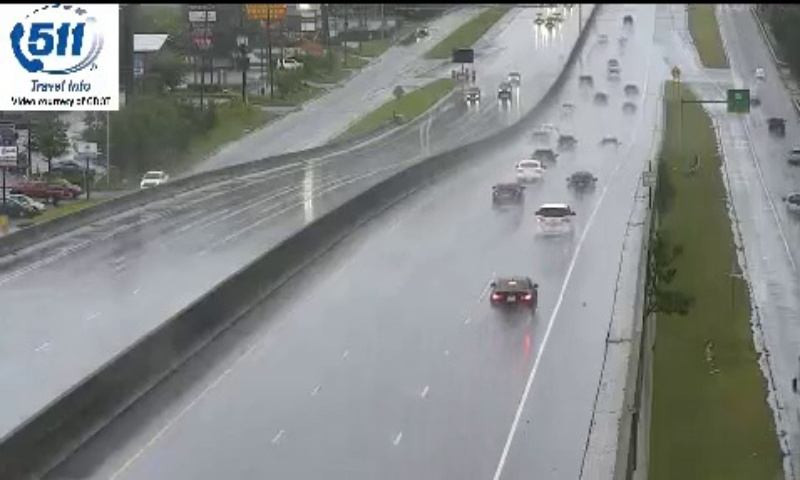car: (490, 278, 537, 308), (535, 203, 572, 236), (491, 182, 524, 206), (567, 171, 595, 194), (517, 158, 543, 182)
